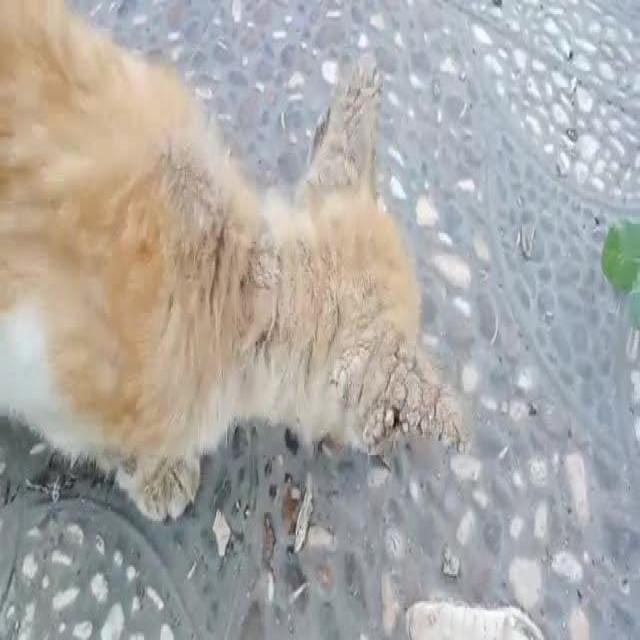ghe: (200, 208, 326, 371), (356, 331, 453, 464), (325, 66, 384, 225)
